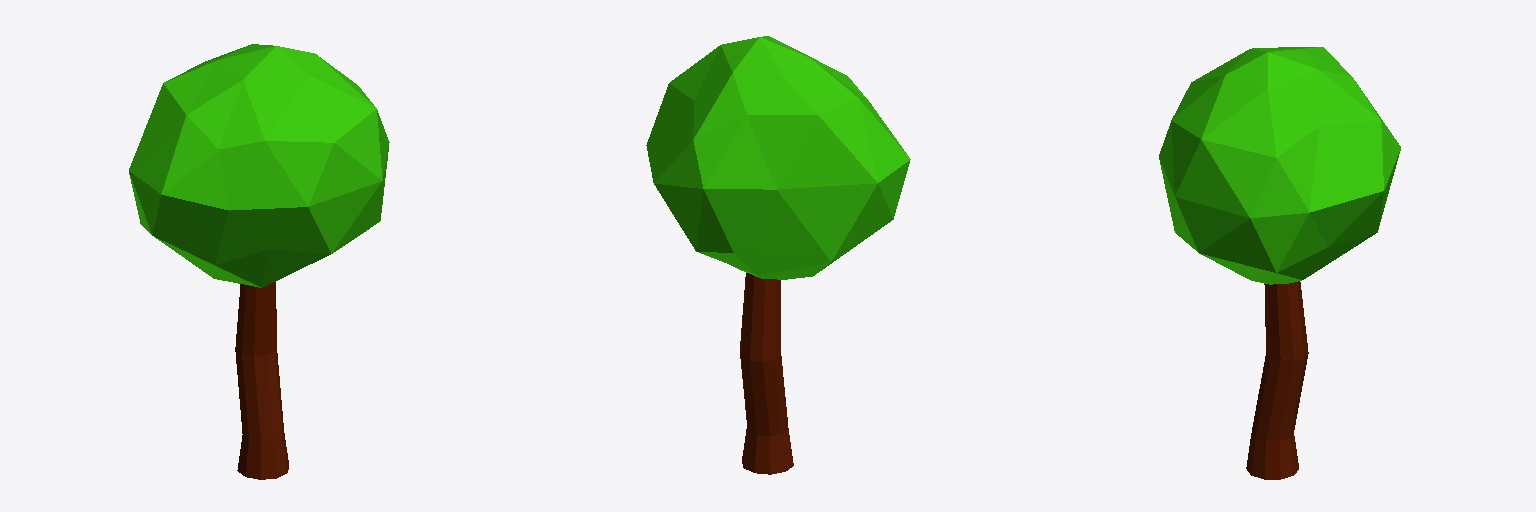
Rendered from arbolNivel1.obj.
3 renders of one model, left to right at view 1: azimuth 30°, elevation 25°; view 2: azimuth 150°, elevation 25°; view 3: azimuth 270°, elevation 25°, orthographic.
Parts seen in each view (by area): view 1: Arbol_1_Cylinder.004; view 2: Arbol_1_Cylinder.004; view 3: Arbol_1_Cylinder.004.
Boxes of the visible parts, x1=… form: Arbol_1_Cylinder.004: x1=129, y1=44, x2=389, y2=479; Arbol_1_Cylinder.004: x1=646, y1=36, x2=910, y2=474; Arbol_1_Cylinder.004: x1=1159, y1=47, x2=1400, y2=479.
Size of the model in its own units: 5.15 by 8.75 by 4.56.